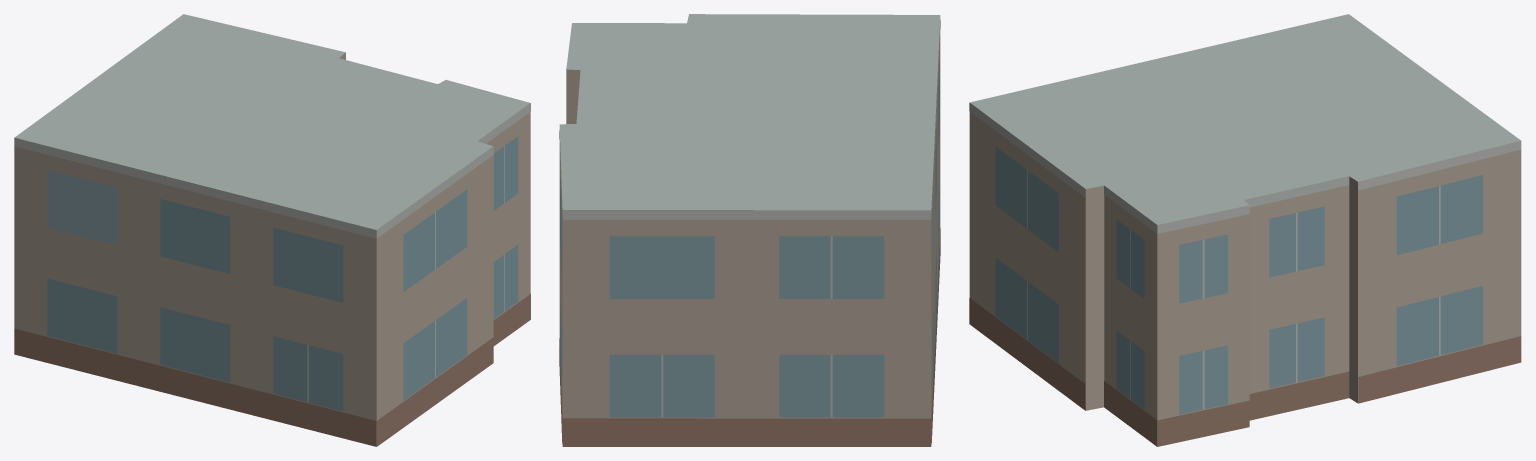
File: survey-upis-32957796.glb
The picture shows the model from 3 angles, left to right: view 1: azimuth 30°, elevation 25°; view 2: azimuth 150°, elevation 25°; view 3: azimuth 270°, elevation 25°; orthographic projection. The views are drawn at different scales.
Parts seen in each view (by area): view 1: survey-upis-32957796.tmp; view 2: survey-upis-32957796.tmp; view 3: survey-upis-32957796.tmp.
Boxes of the visible parts, left/top/right/bottom form: survey-upis-32957796.tmp: left=14, top=14, right=530, bottom=446; survey-upis-32957796.tmp: left=559, top=14, right=940, bottom=446; survey-upis-32957796.tmp: left=969, top=14, right=1521, bottom=446.
Bounding box in the file's own units: 12.46 × 6.1 × 13.76.
